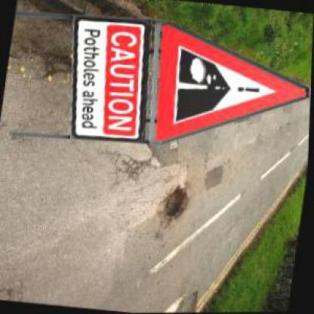Hueco: (157, 183, 192, 225)
